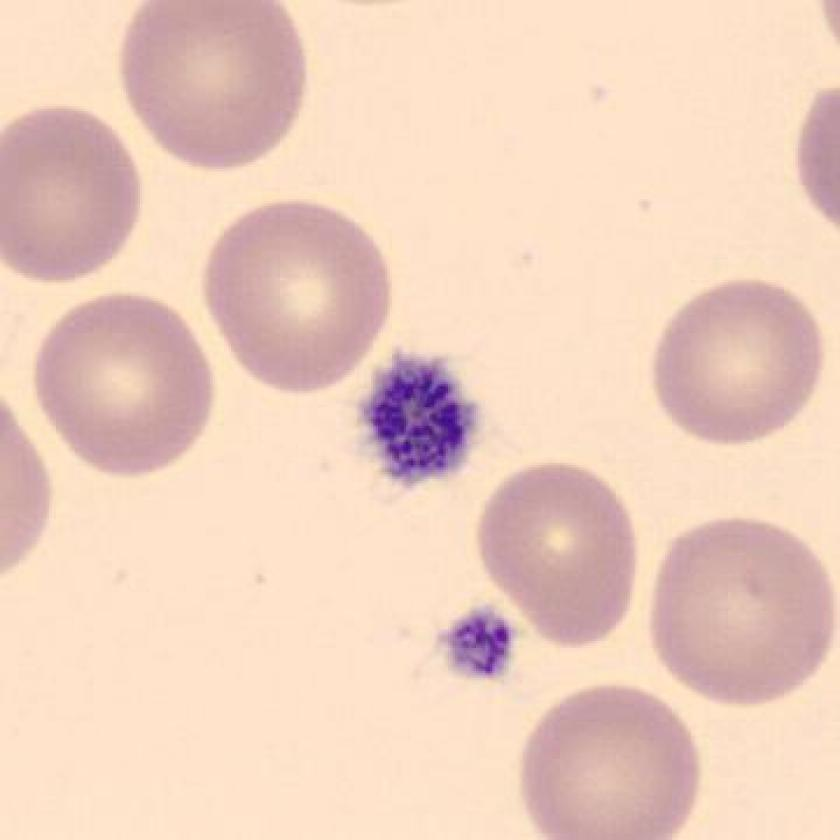platelets: (344, 336, 493, 501), (428, 589, 533, 700)
